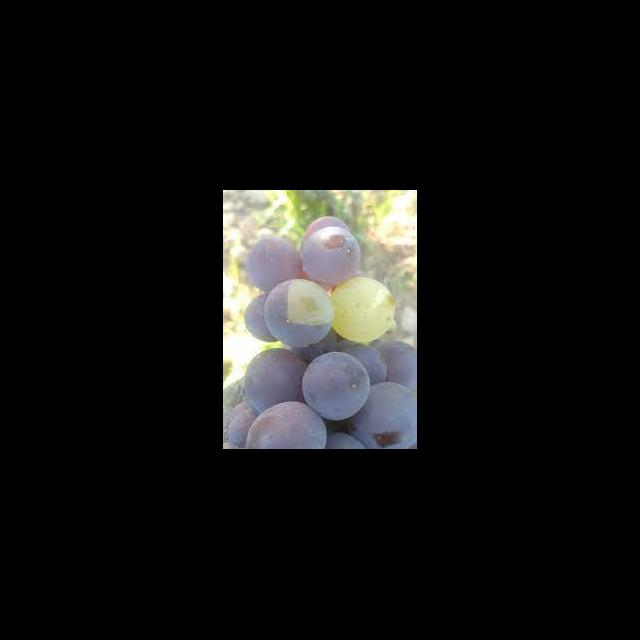grape: (225, 216, 416, 448)
